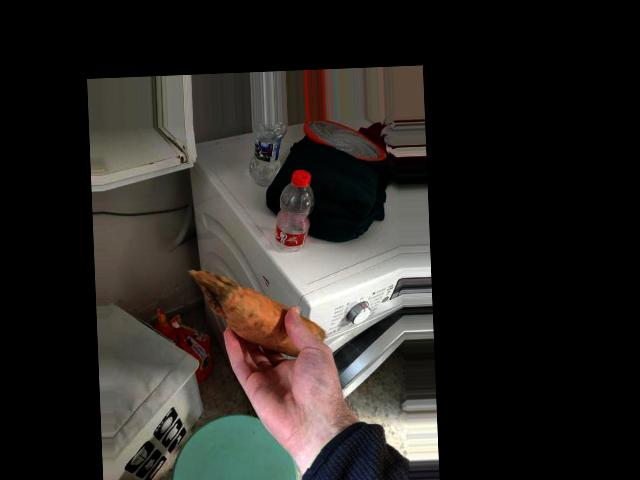sweet_potato: (224, 281, 313, 368)
